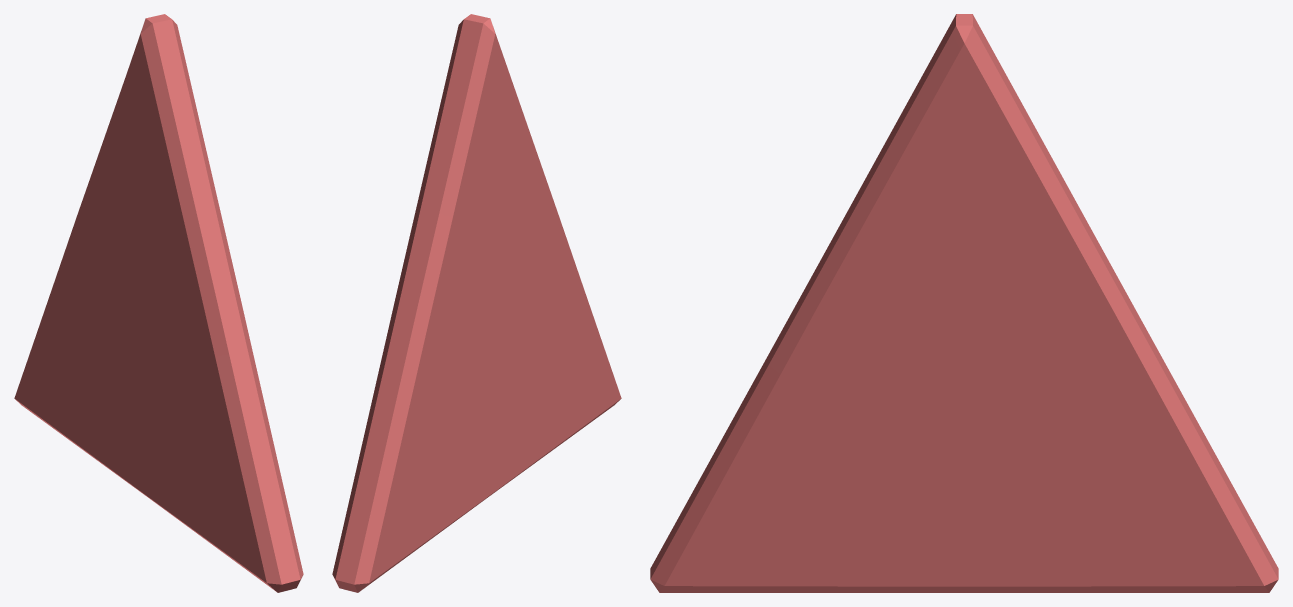
File: p_Triangle.fbx
3 views of the same model, side by side, from view 1: azimuth 30°, elevation 25°; view 2: azimuth 150°, elevation 25°; view 3: azimuth 270°, elevation 25° (orthographic). The views are drawn at different scales.
Visible parts, largest first — view 1: p_Triangle; view 2: p_Triangle; view 3: p_Triangle.
Boxes of the visible parts, x1,y1,x2,y2 form: p_Triangle: (14,14,303,592); p_Triangle: (332,14,621,592); p_Triangle: (650,14,1278,592).
Size of the model in its own units: 0.1567 by 1.95 by 1.95.
